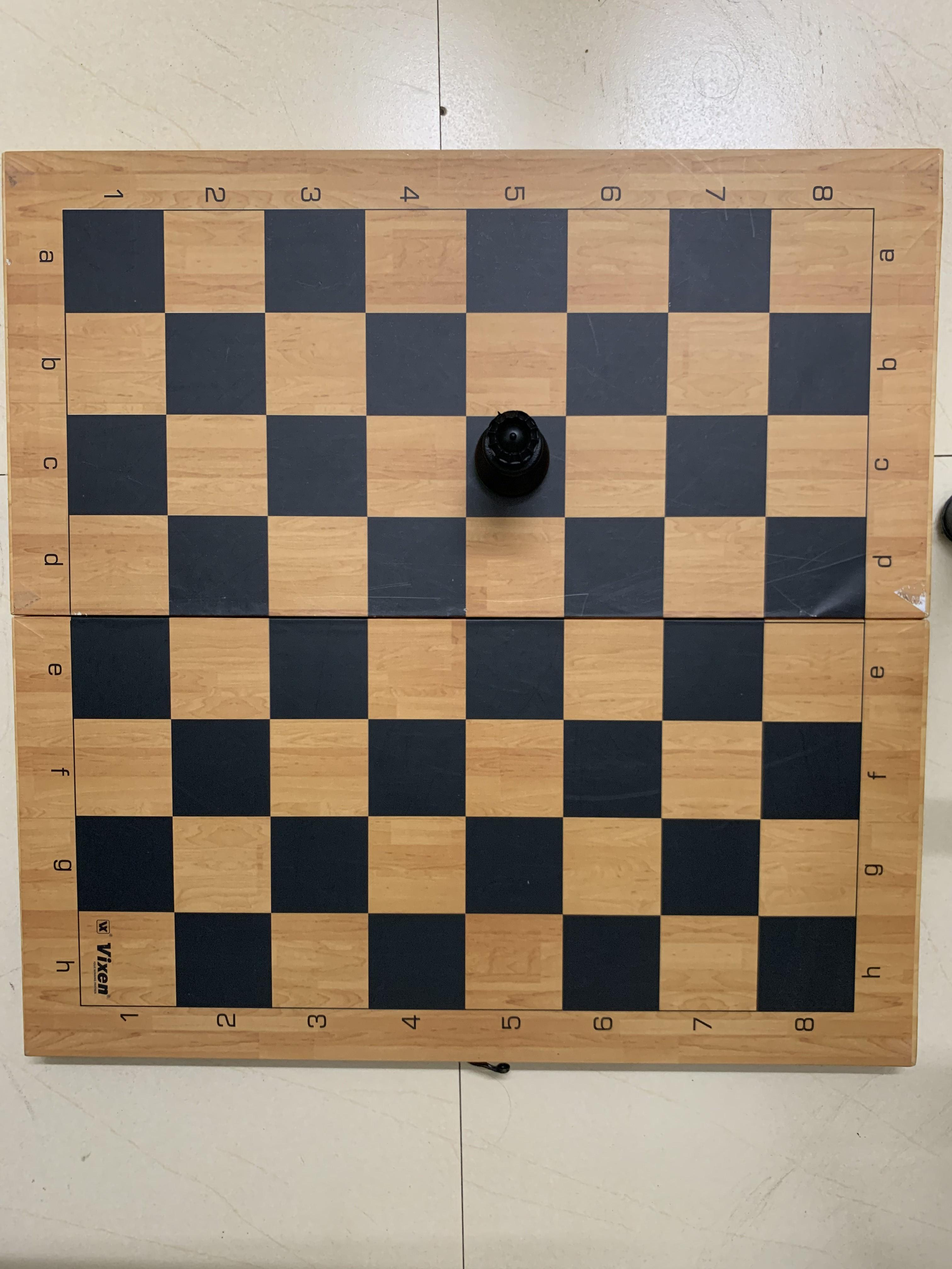black_queen: (462, 404, 565, 512)
